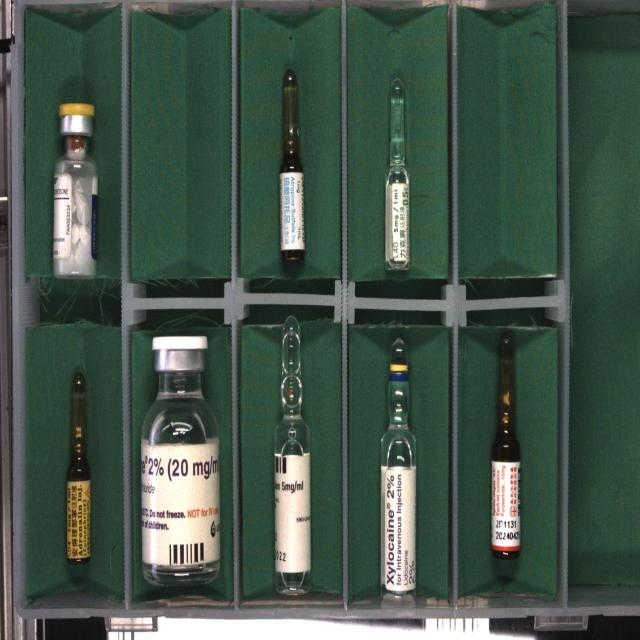Vials: (140, 335, 221, 587), (53, 103, 99, 279)
